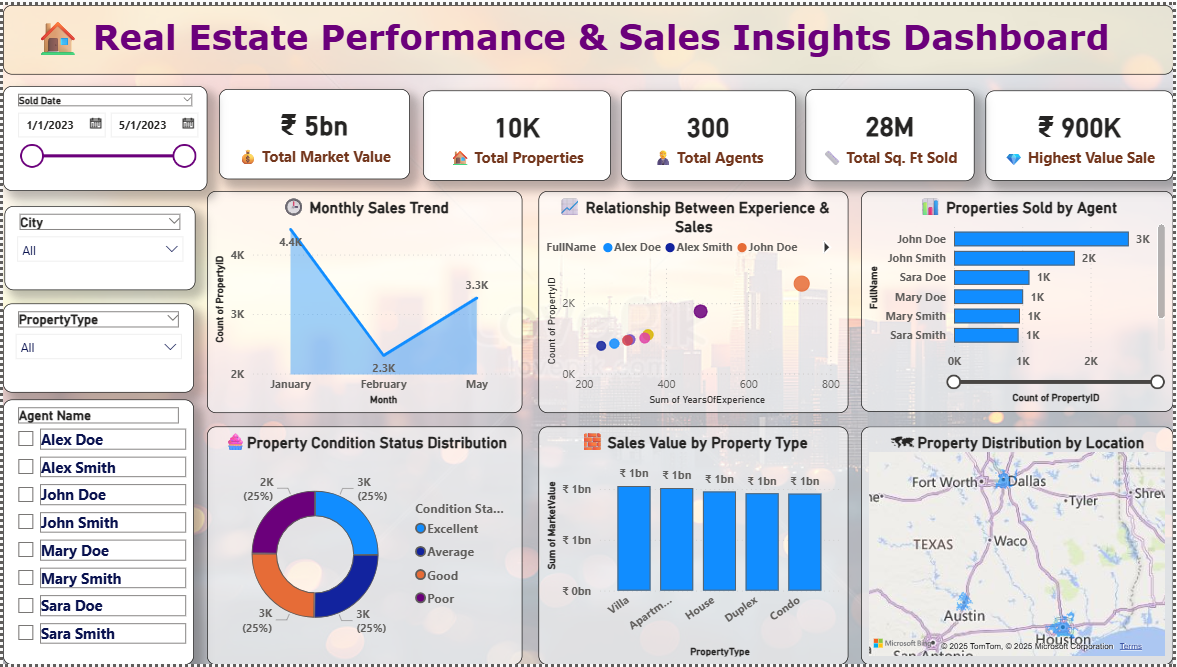

The page's visual inventory and layout, read from the dashboard file:
{"tool":"powerbi","page":{"name":"Property & Sales Insights","canvas":[1280,720],"ordinal":9},"visuals":[{"type":"barChart","title":"📊 Properties Sold by Agent","fields":{"Category":["Agents.FullName"],"Y":["CountNonNull(Properties.PropertyID)"]},"box":[937.5,204,341.7,241.3],"z":0},{"type":"textbox","box":[0,0,1279.2,76.1],"z":1000},{"type":"columnChart","title":"🧱 Sales Value by Property Type","fields":{"Category":["Properties.PropertyType"],"Y":["Sum(Properties.MarketValue)"]},"box":[584.5,459.9,338.4,260.7],"z":2000},{"type":"areaChart","title":"🕒 Monthly Sales Trend","fields":{"Category":["Properties.SoldDate.Variation.Date Hierarchy.Month"],"Y":["CountNonNull(Properties.PropertyID)"]},"box":[223.5,204,344.9,242.9],"z":3000},{"type":"donutChart","title":" 🧁Property Condition Status Distribution","fields":{"Category":["Properties.ConditionStatus"],"Y":["CountNonNull(Properties.PropertyID)"]},"box":[223.5,459.9,344.9,260.7],"z":4000},{"type":"filledMap","title":"🗺 Property Distribution by Location","fields":{"Category":["Properties.City","Properties.State"],"Y":["Avg(Properties.Latitude)"]},"box":[937.5,459.9,341.7,260.7],"z":5000},{"type":"scatterChart","title":"📈 Relationship Between Experience & Sales","fields":{"Series":["Agents.FullName"],"Size":["Sum(Properties.MarketValue)"],"X":["Sum(Agents.YearsOfExperience)"],"Y":["CountNonNull(Properties.PropertyID)"]},"box":[584.5,204,338.4,242.9],"z":6000},{"type":"slicer","fields":{"Values":["Properties.City"]},"box":[1.6,220.2,208.9,92.3],"z":7000},{"type":"slicer","fields":{"Values":["Properties.PropertyType"]},"box":[0,325.5,208.9,97.2],"z":8000},{"type":"slicer","fields":{"Values":["Agents.FullName"]},"box":[0,430.7,208.9,289.8],"z":9000},{"type":"card","fields":{"Values":["Max(Properties.MarketValue)"]},"box":[1073.5,93.9,205.6,98.8],"z":10000},{"type":"card","fields":{"Values":["Sum(Properties.SquareFeet)"]},"box":[877.6,92.3,184.6,100.4],"z":11000},{"type":"card","fields":{"Values":["CountNonNull(Properties.PropertyID)"]},"box":[458.2,93.9,205.6,98.8],"z":12000},{"type":"card","fields":{"Values":["Sum(Properties.MarketValue)"]},"box":[236.4,92.3,208.9,98.8],"z":13000},{"type":"card","fields":{"Values":["CountNonNull(Agents.AgentID)"]},"box":[675.2,93.9,191.1,98.8],"z":14000},{"type":"slicer","fields":{"Values":["Properties.SoldDate"]},"box":[0,89.1,223.5,115],"z":15000}]}

Visuals, with their boxes in screenshot pixels (x1, y1, x2, y2), scaled from the page's 1280x720 canvas onto the 1177x667 screenshot:
"📊 Properties Sold by Agent" barChart: crop(862, 189, 1176, 413)
textbox: crop(0, 0, 1176, 70)
"🧱 Sales Value by Property Type" columnChart: crop(537, 426, 849, 666)
"🕒 Monthly Sales Trend" areaChart: crop(206, 189, 523, 414)
" 🧁Property Condition Status Distribution" donutChart: crop(206, 426, 523, 666)
"🗺 Property Distribution by Location" filledMap: crop(862, 426, 1176, 666)
"📈 Relationship Between Experience & Sales" scatterChart: crop(537, 189, 849, 414)
slicer - Properties.City: crop(1, 204, 194, 289)
slicer - Properties.PropertyType: crop(0, 302, 192, 392)
slicer - Agents.FullName: crop(0, 399, 192, 666)
card - Max(Properties.MarketValue): crop(987, 87, 1176, 179)
card - Sum(Properties.SquareFeet): crop(807, 86, 977, 179)
card - CountNonNull(Properties.PropertyID): crop(421, 87, 610, 179)
card - Sum(Properties.MarketValue): crop(217, 86, 409, 177)
card - CountNonNull(Agents.AgentID): crop(621, 87, 797, 179)
slicer - Properties.SoldDate: crop(0, 83, 206, 189)
